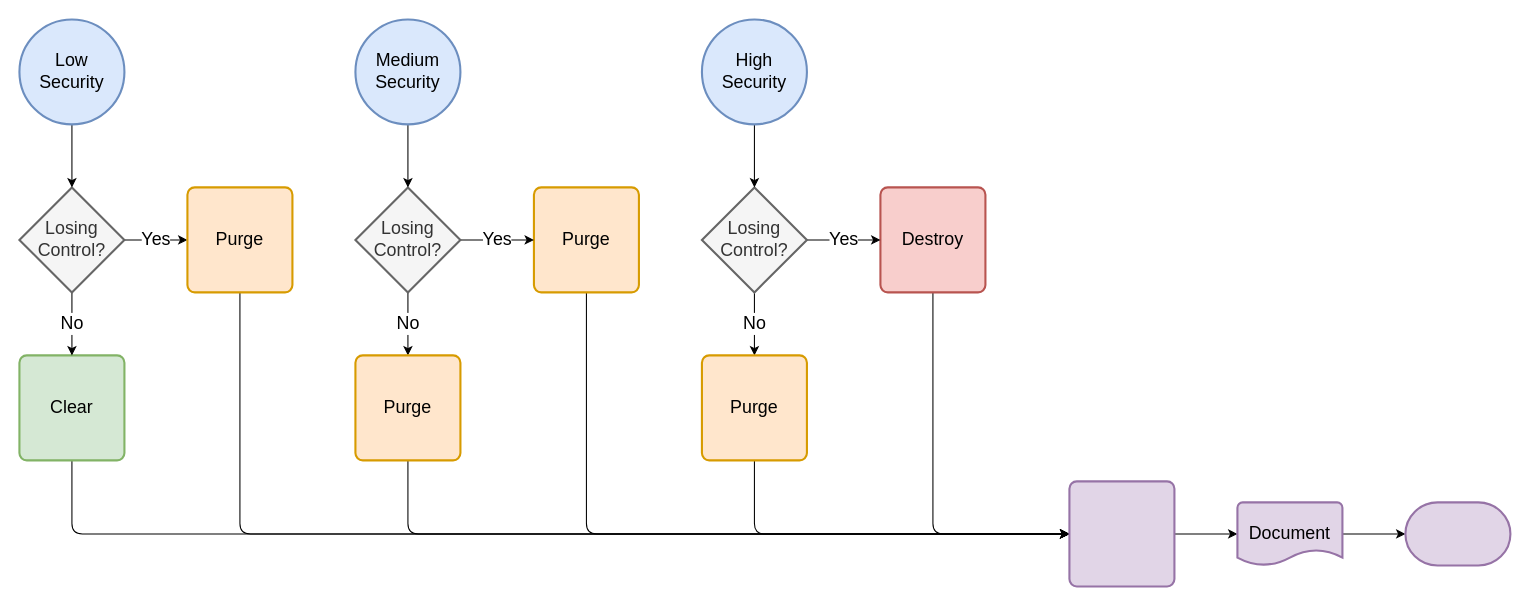
Image size: 1529x605. Some labels were removed from this diagram. The centre of each missing label's shape, as x and y in pixels:
Exit: point (1457, 533)
Validate: point (1121, 533)
